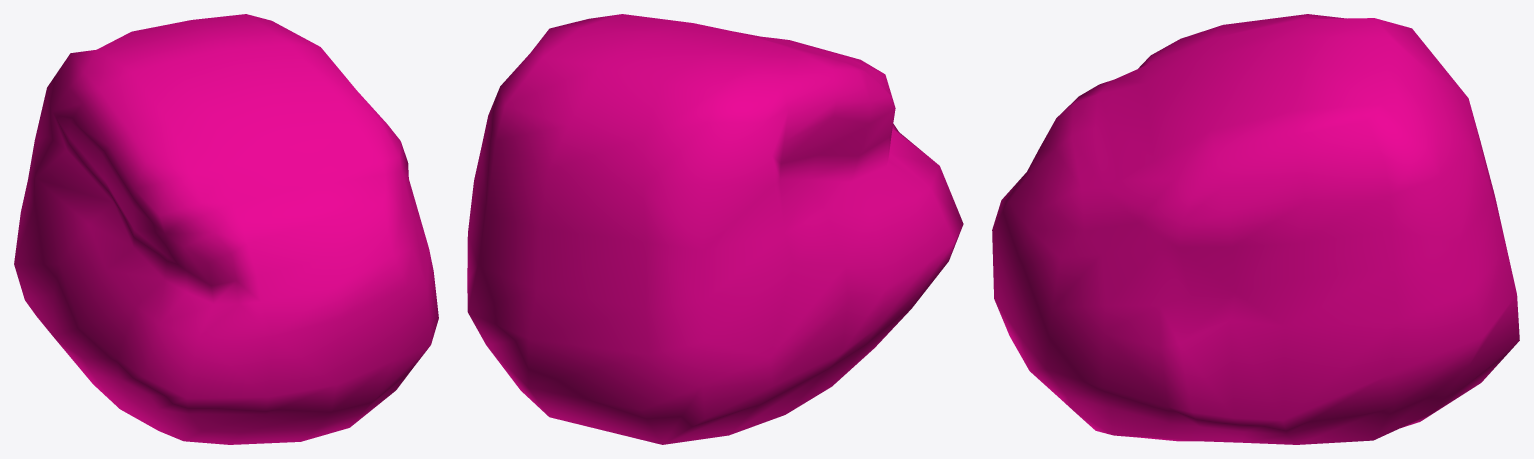
The model's file is Rock_Small_05_Lod0.fbx.
The picture shows the model from 3 angles, left to right: view 1: azimuth 30°, elevation 25°; view 2: azimuth 150°, elevation 25°; view 3: azimuth 270°, elevation 25°; orthographic projection. The views are drawn at different scales.
Visible parts, largest first — view 1: Rock_Small_05_Lod0; view 2: Rock_Small_05_Lod0; view 3: Rock_Small_05_Lod0.
Part boxes in pixels (x1,y1,x2,y2): Rock_Small_05_Lod0: (14,14,438,444); Rock_Small_05_Lod0: (467,14,963,444); Rock_Small_05_Lod0: (992,14,1519,444).
Size of the model in its own units: 455 by 443 by 588.
